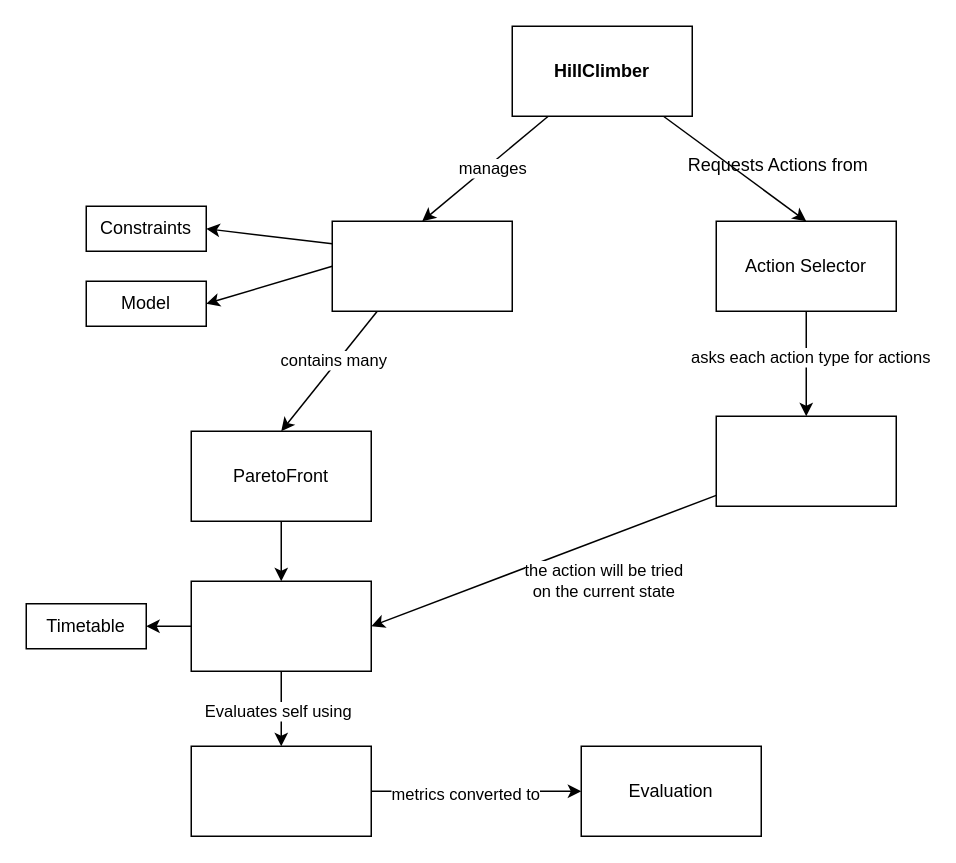
This 956x863 diagram has some shape labels left out. The shapes that lost their labels are listed below. From the top down, each one's box as (x1, y1, x2, y2) in pixels, then its label:
(331, 220, 512, 311): Store
(715, 415, 896, 506): Action
(190, 580, 371, 671): State
(190, 745, 371, 836): Simulation Runner
